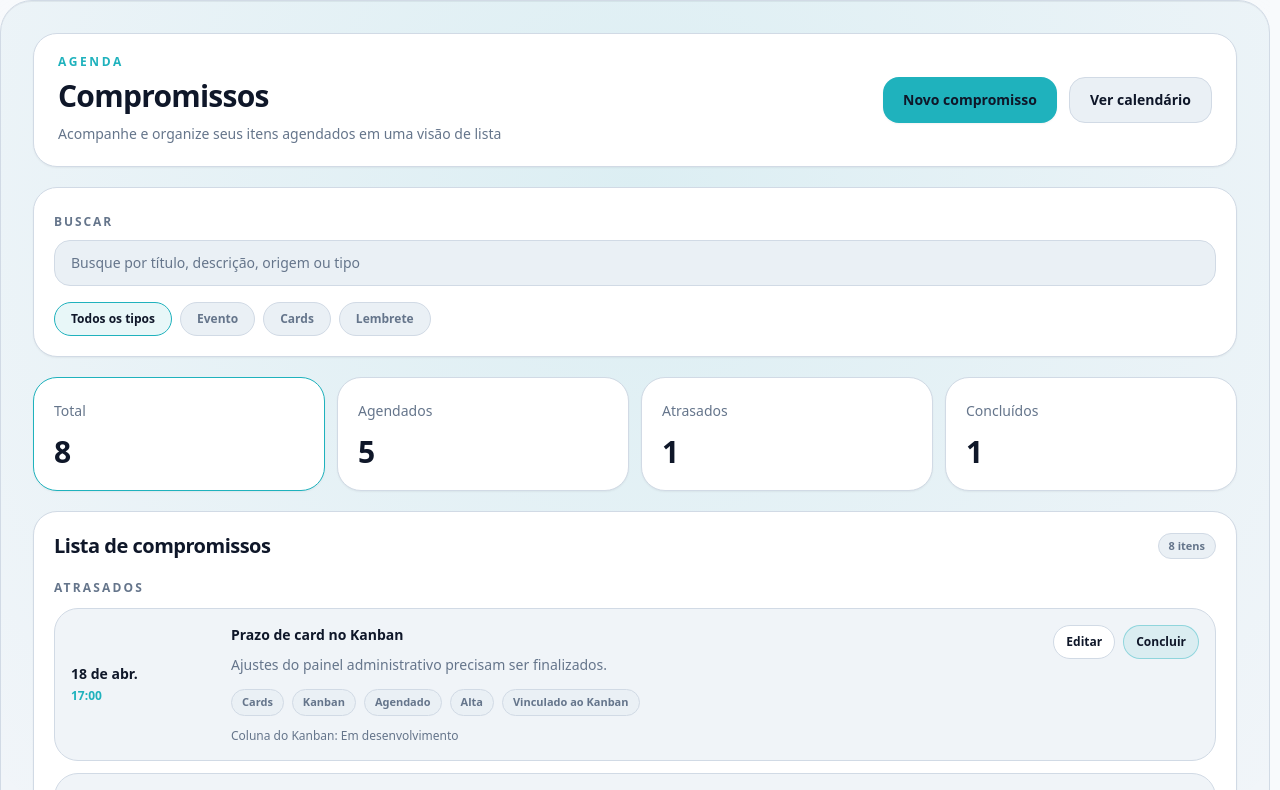
Test: AgendaAppointmentsPage › renders an empty state when there are no results
Type "sem resultado possível" into the field with placeholder "Busque por título, descrição, origem ou tipo" at (635,263), box x1=54 y1=240 x2=1216 y2=286
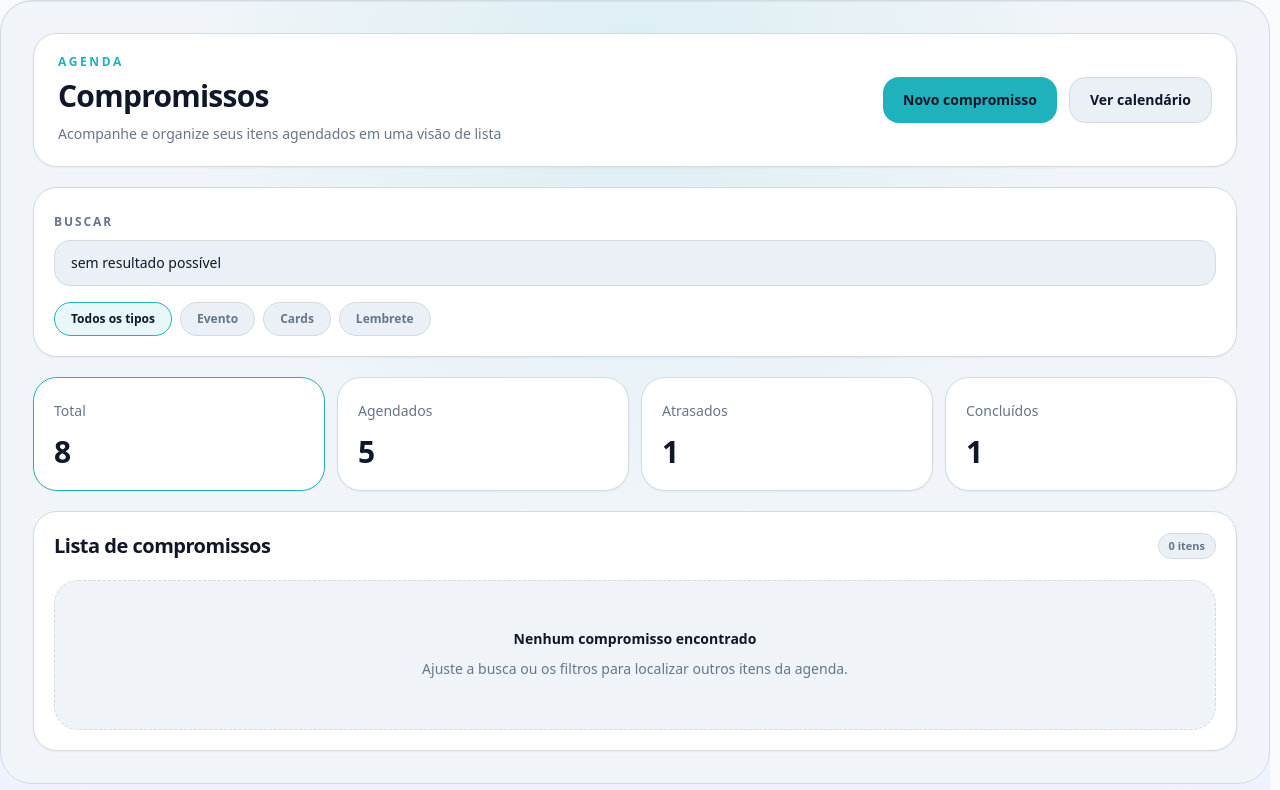
Expected: the text "Nenhum compromisso encontrado" is shown, x1=514 y1=629 x2=756 y2=648
